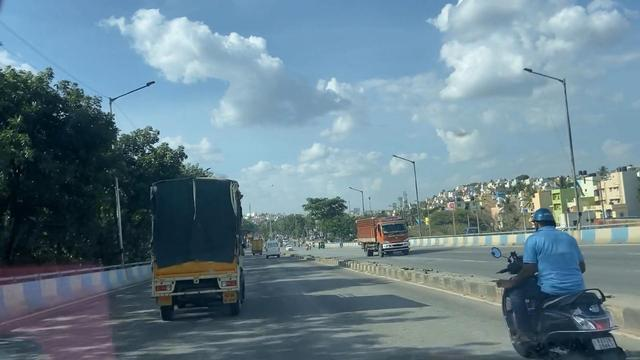HMV: (151, 173, 245, 308)
LMV: (478, 210, 615, 360)
